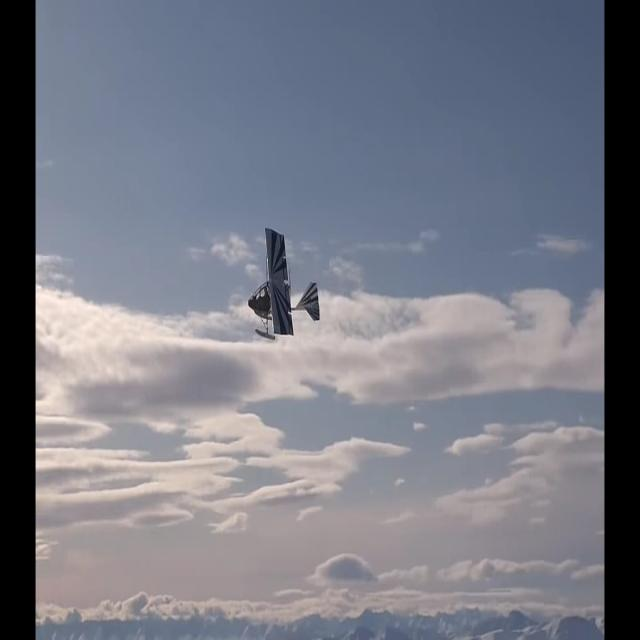iha: (283, 259, 285, 308)
